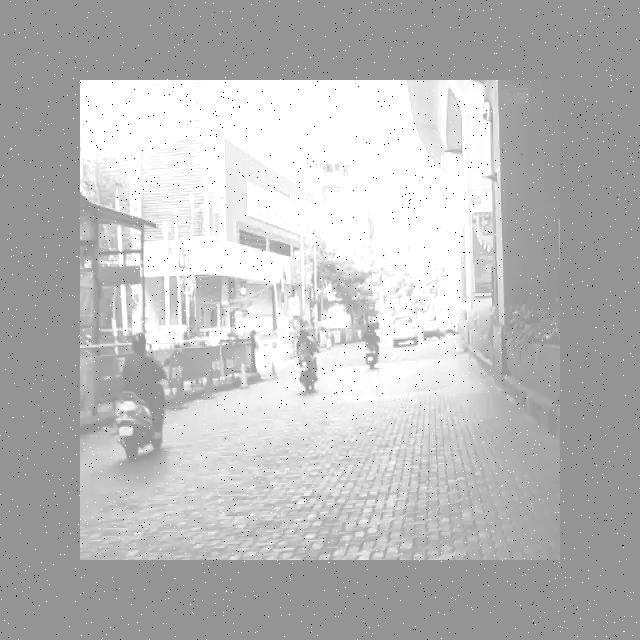Car: (386, 311, 429, 353), (422, 297, 452, 343)
